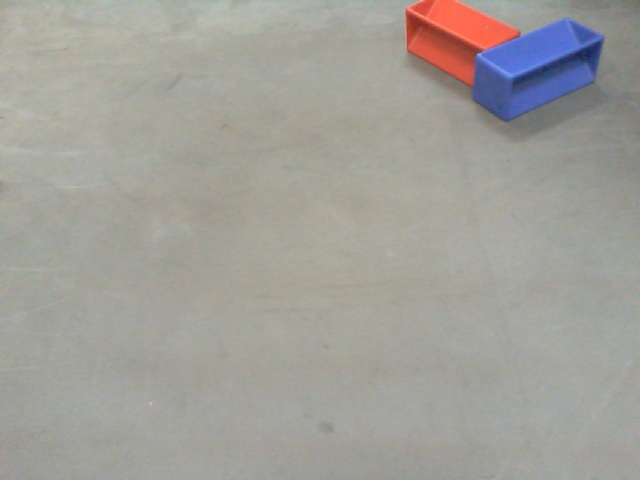BlueSample: (471, 20, 604, 120)
RedSample: (396, 1, 522, 88)
